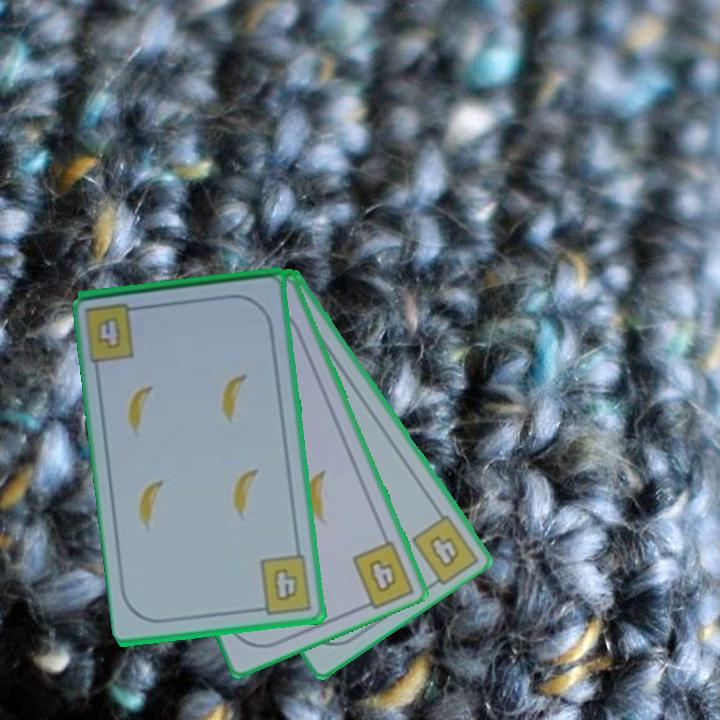4b: (252, 551, 316, 617), (425, 532, 463, 572), (365, 556, 400, 597), (97, 317, 122, 349)
